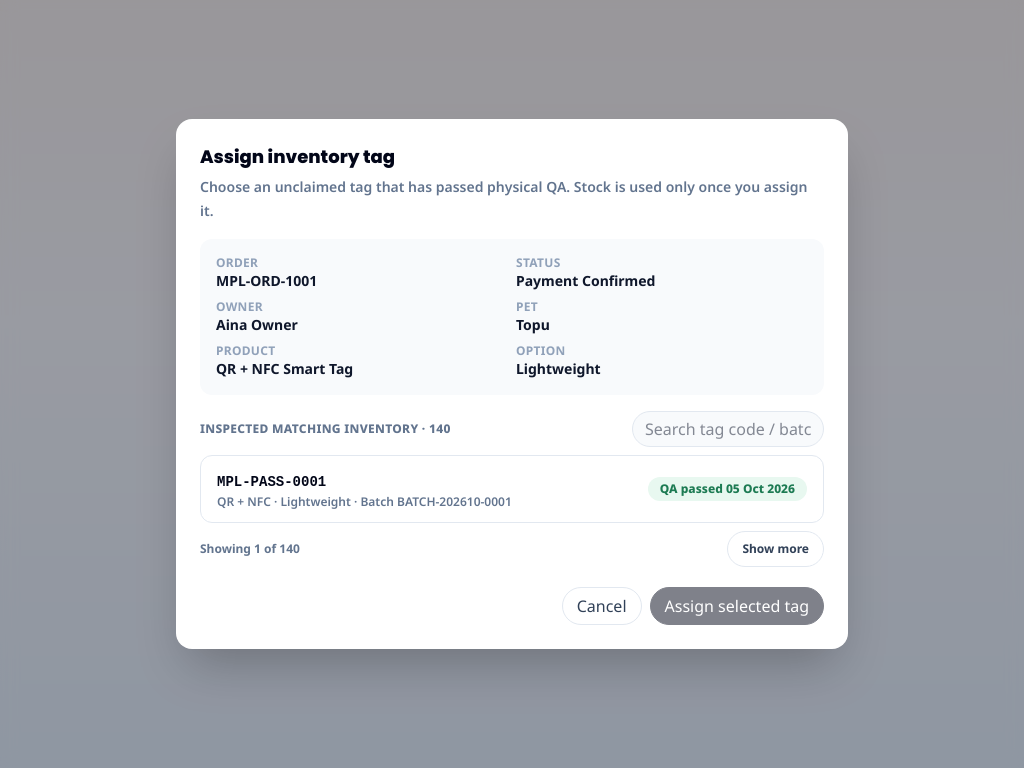
Test case: TagAssignmentModal › searches on the server instead of filtering the first page
Check: the text "MPL-PASS-0001" is shown, box x1=217 y1=474 x2=326 y2=490
Type "0140" into the field named "Search tag code or batch" at point(728, 429), box x1=632 y1=411 x2=824 y2=447
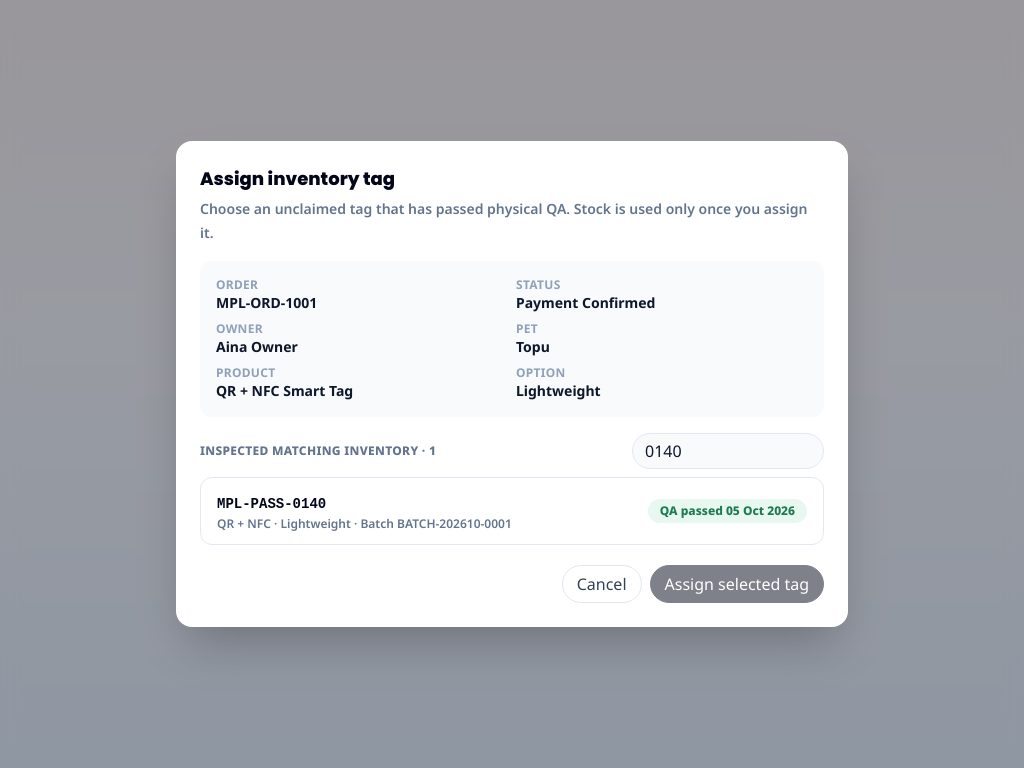
Check: the text "MPL-PASS-0140" is shown, box x1=217 y1=496 x2=326 y2=512
Check: the button "MPL-PASS-0001" is gone
